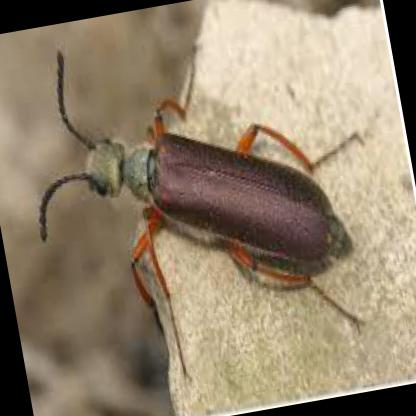blister beetle: (40, 58, 355, 285)
